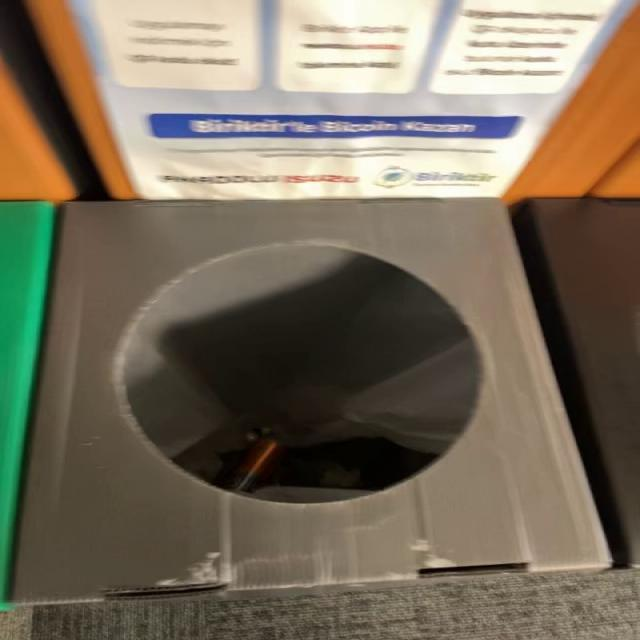Bin: (12, 200, 609, 603)
Metal: (232, 433, 283, 492)
